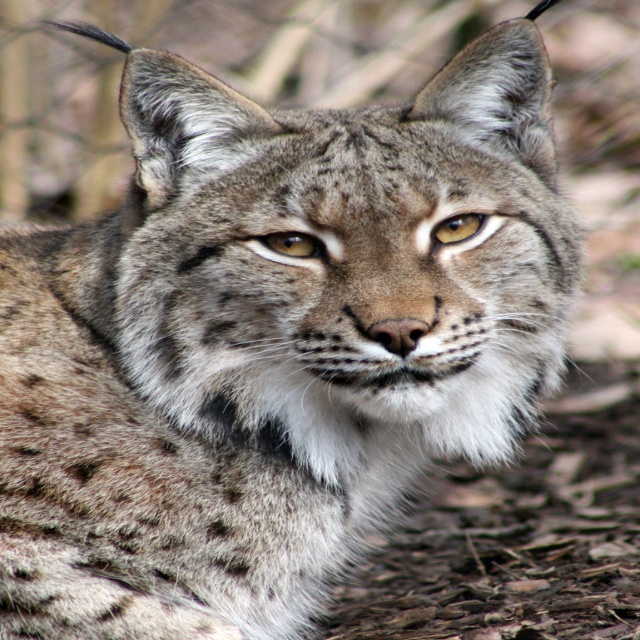Lynx: (0, 0, 621, 640)
